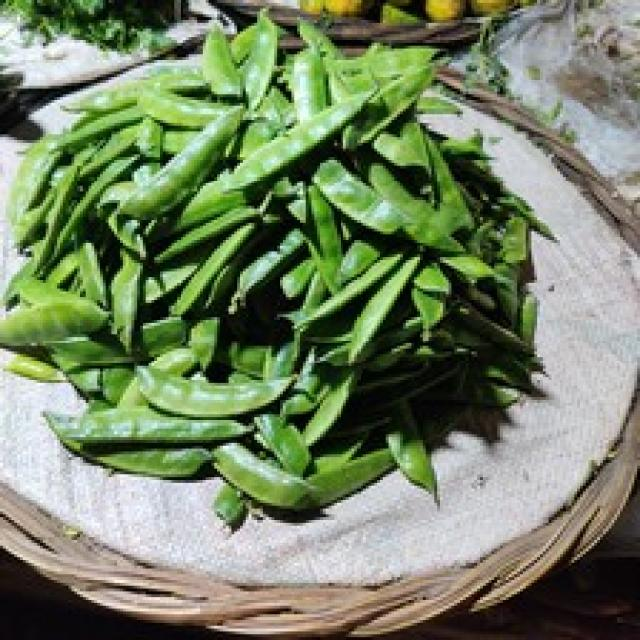Bean: (0, 6, 549, 531)
